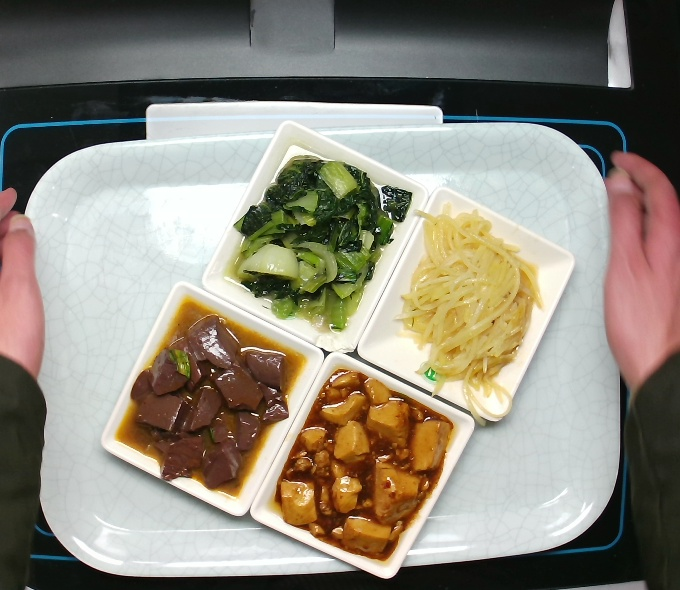wcq-MaPoDouFu: (265, 371, 453, 552)
wcq-NiuXue: (127, 335, 289, 481)
wcq-TuDouSi: (392, 211, 553, 406)
wcq-YouDongCai: (221, 154, 402, 331)
